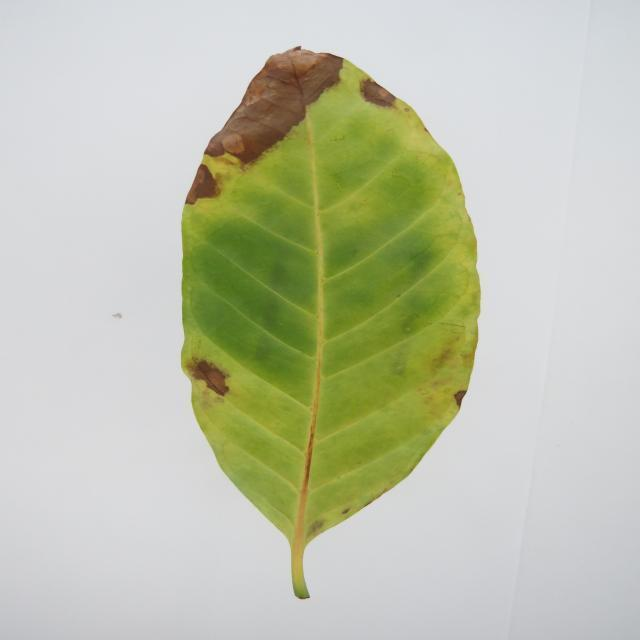DeficienciaNutricional-Potasio: (182, 48, 480, 599)
